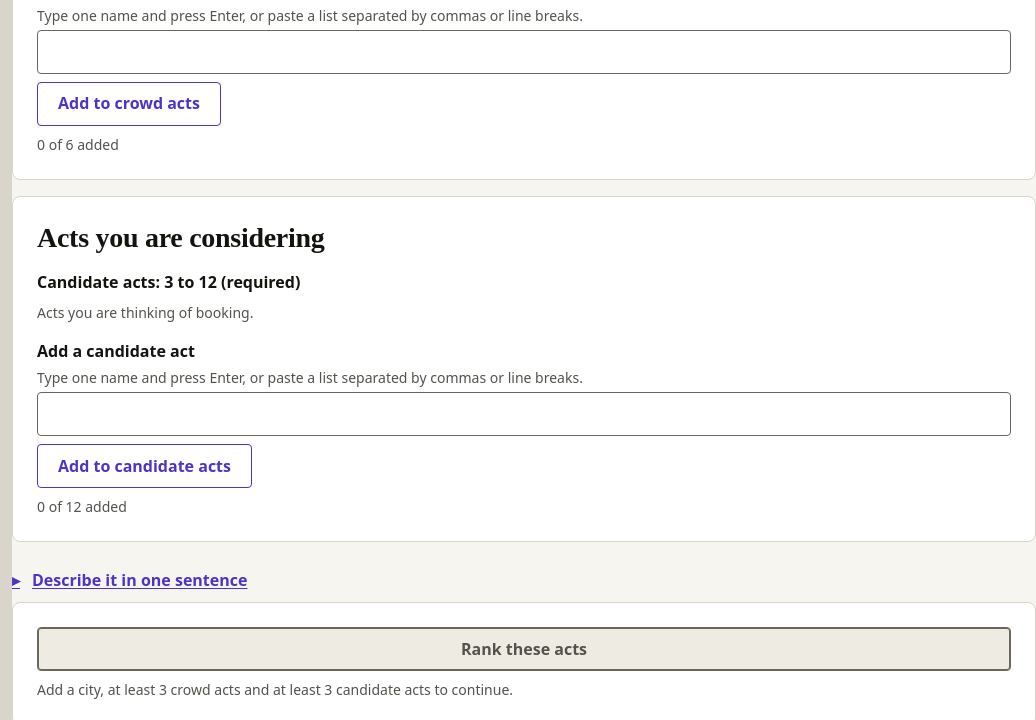
Test: room setup › validation error: the summary is an alert with links to each field
(page scrolled)
Click the button "Rank these acts": [524, 649] box x1=37 y1=627 x2=1011 y2=671
(page scrolled)
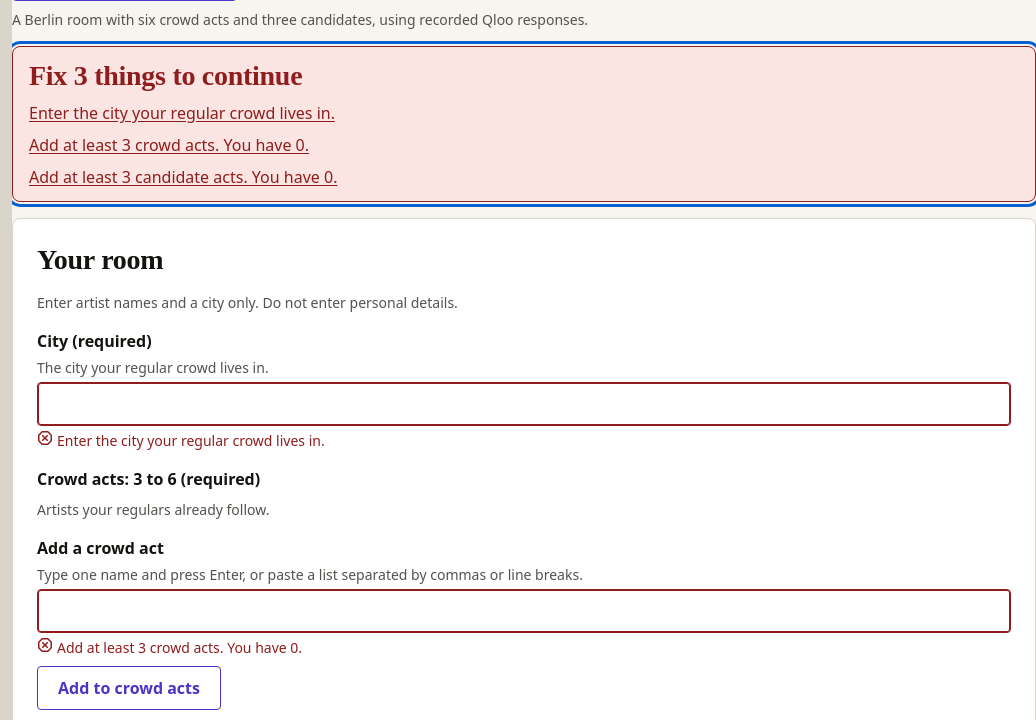
Now the message shows "Fix 3 things to continue", box x1=29 y1=60 x2=302 y2=91
